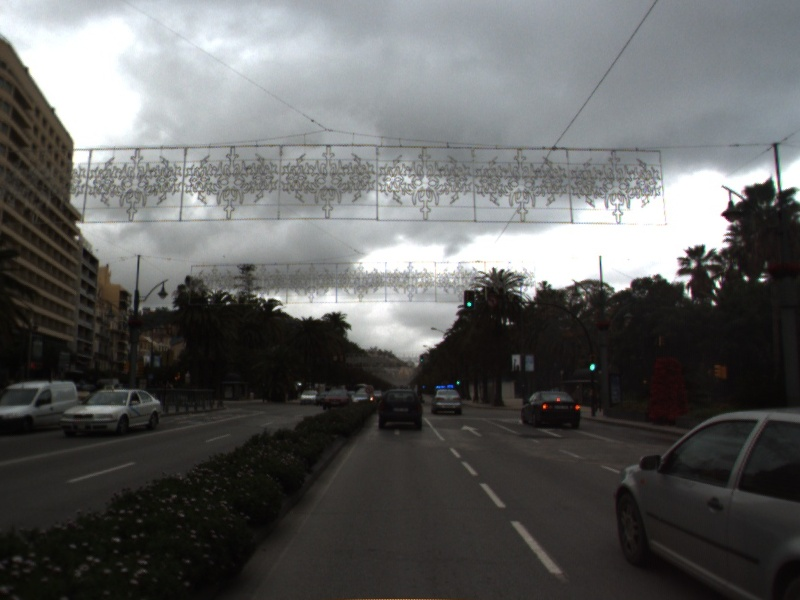STRAIGHT: (459, 423, 484, 438)
